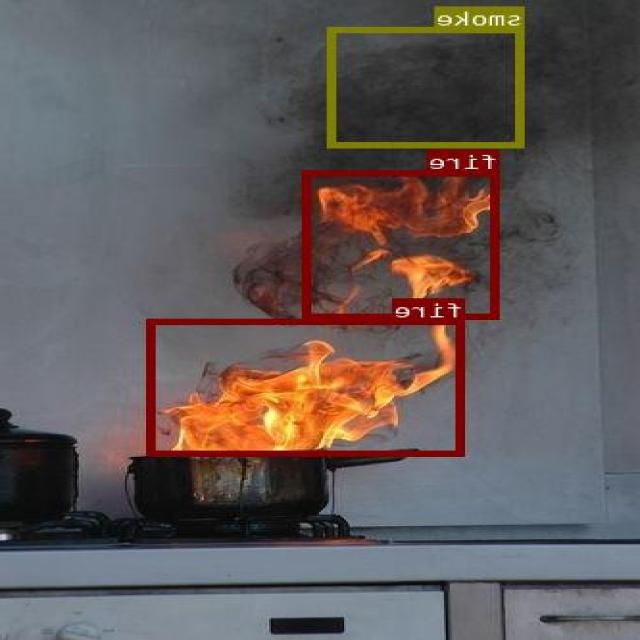fire: (148, 318, 467, 454), (305, 170, 501, 318)
smoke: (330, 26, 525, 146)
